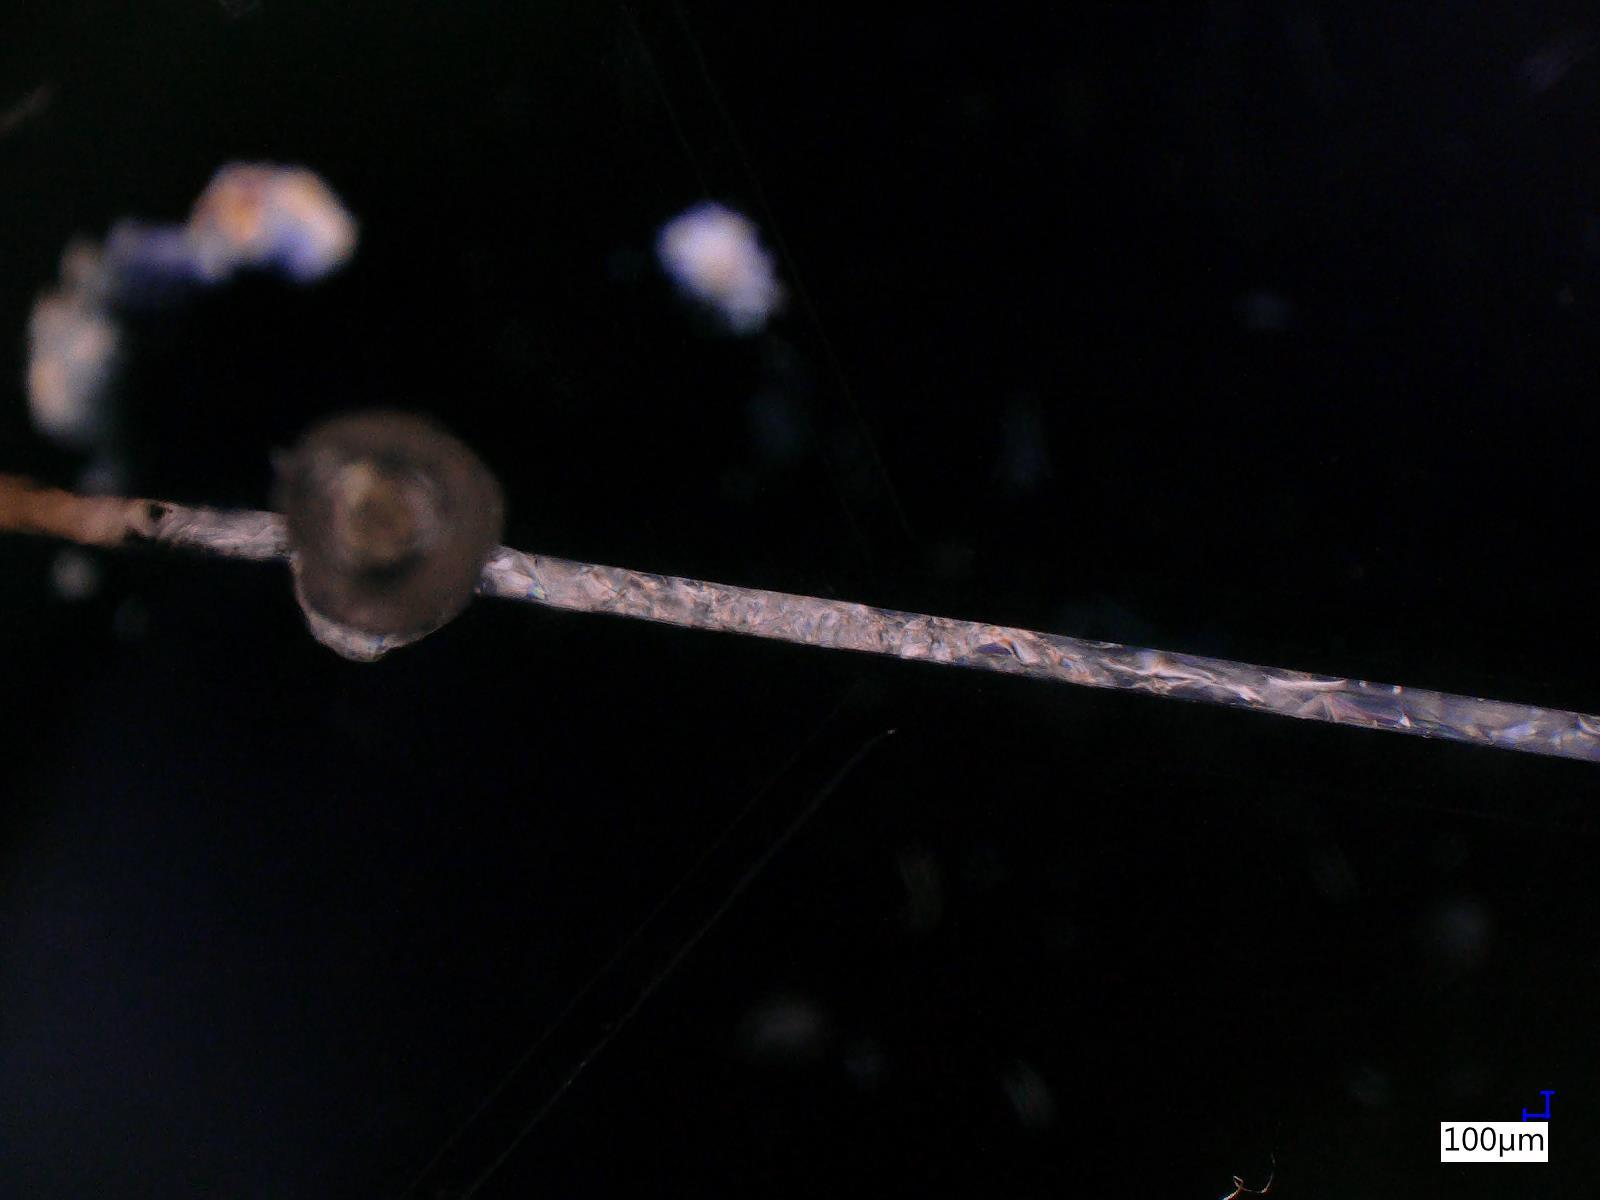sediment: (586, 565, 650, 616), (912, 619, 968, 657)
